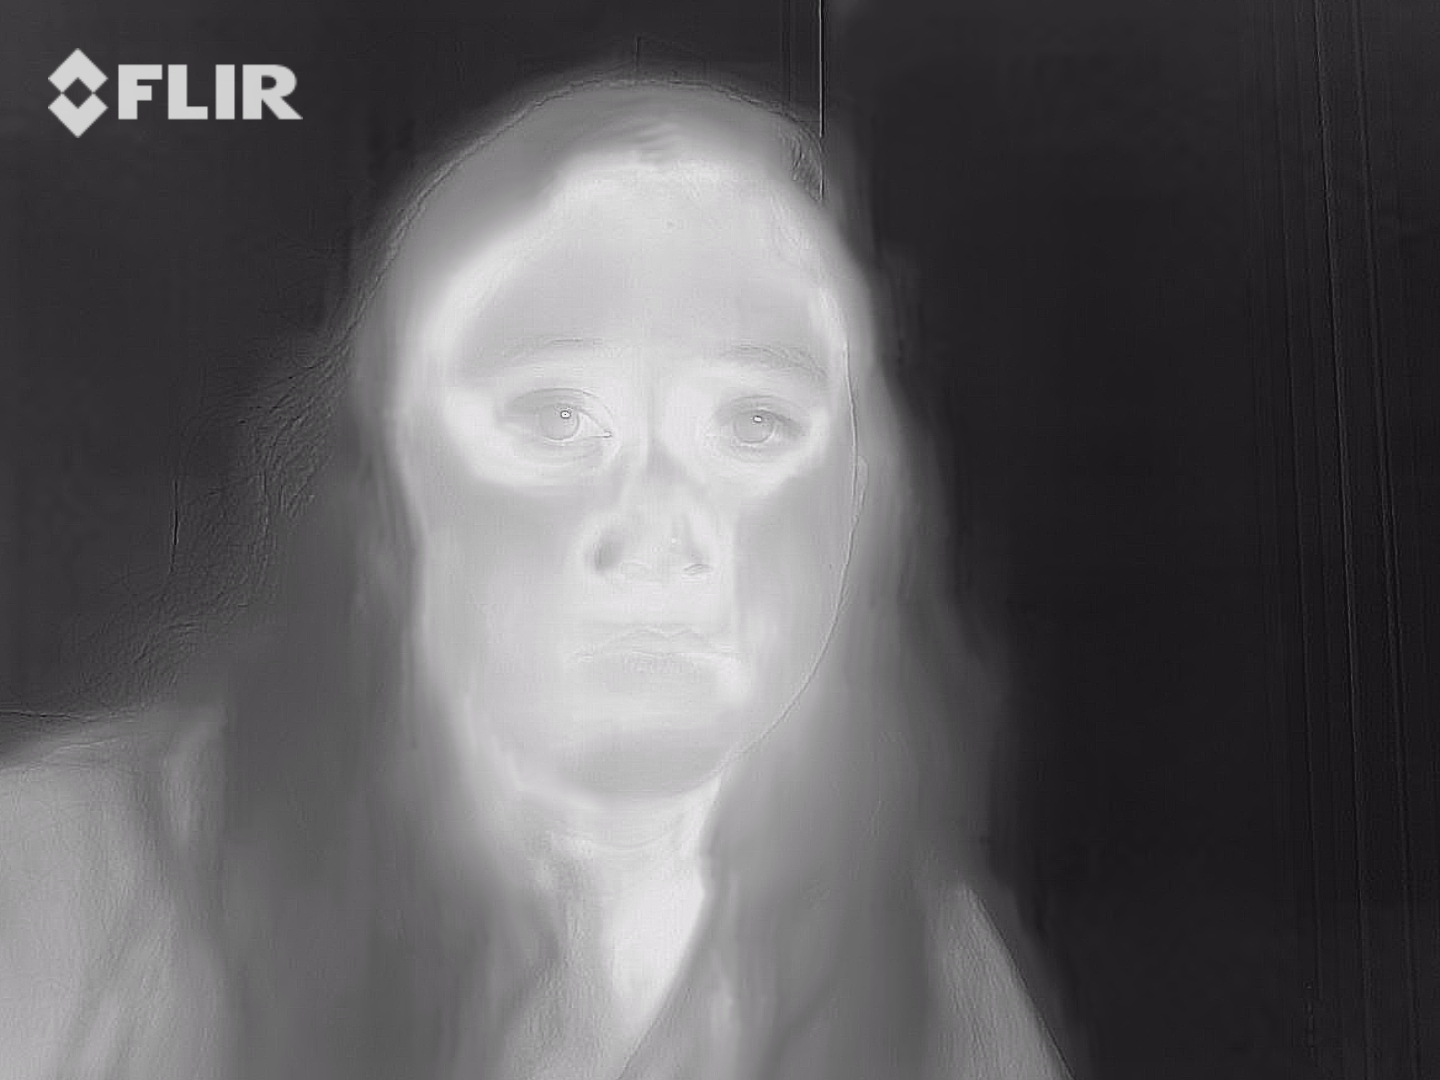head: (235, 66, 873, 823)
